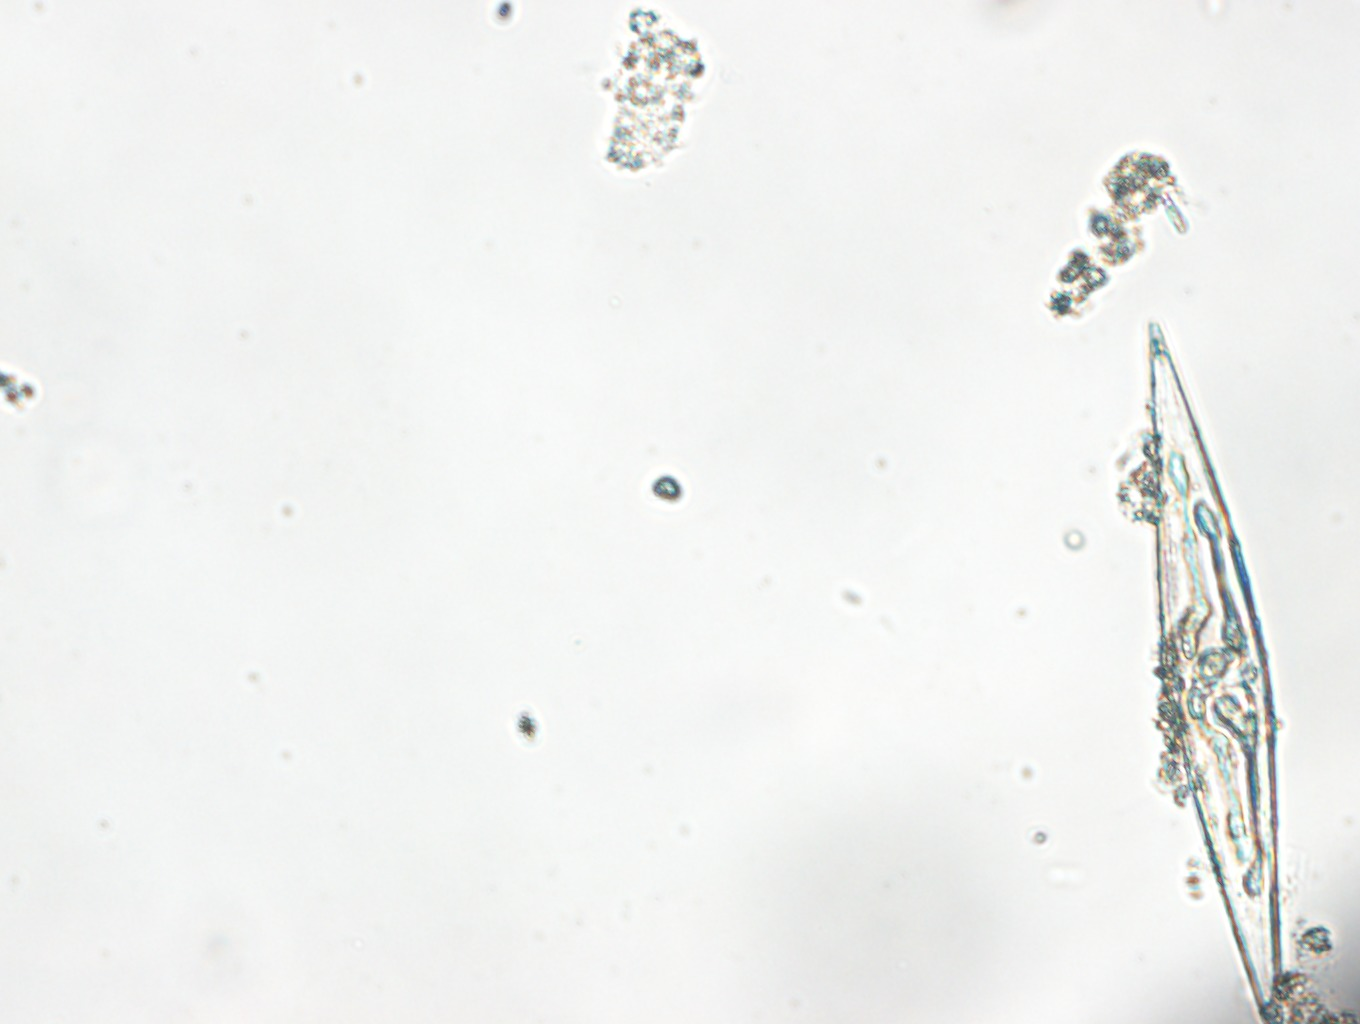navicula: (1149, 321, 1282, 1024)
